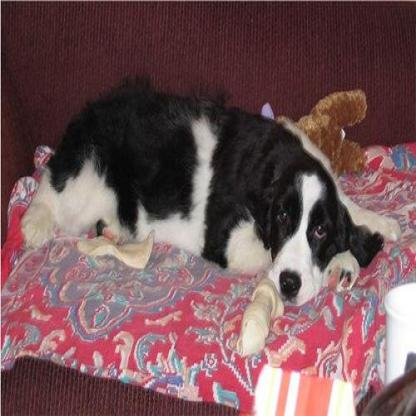English_springer: (19, 75, 400, 355)
